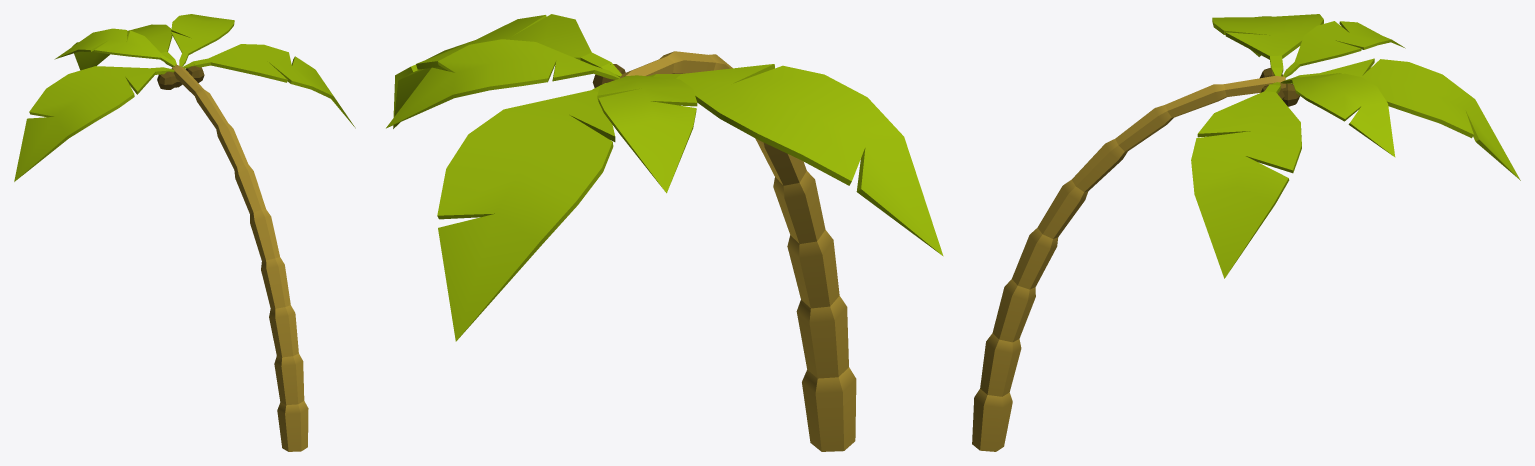
Rendered from palm_tree.fbx.
3 views of the same model, side by side, from view 1: azimuth 30°, elevation 25°; view 2: azimuth 150°, elevation 25°; view 3: azimuth 270°, elevation 25° (orthographic). The views are drawn at different scales.
Parts seen in each view (by area): view 1: pPlane6; view 2: pPlane6; view 3: pPlane6.
Part boxes in pixels (left/top/right/bottom): pPlane6: left=14, top=14, right=355, bottom=451; pPlane6: left=386, top=14, right=943, bottom=451; pPlane6: left=972, top=14, right=1520, bottom=451.
Bounding box in the file's own units: 13.11 × 11.9 × 15.21.
